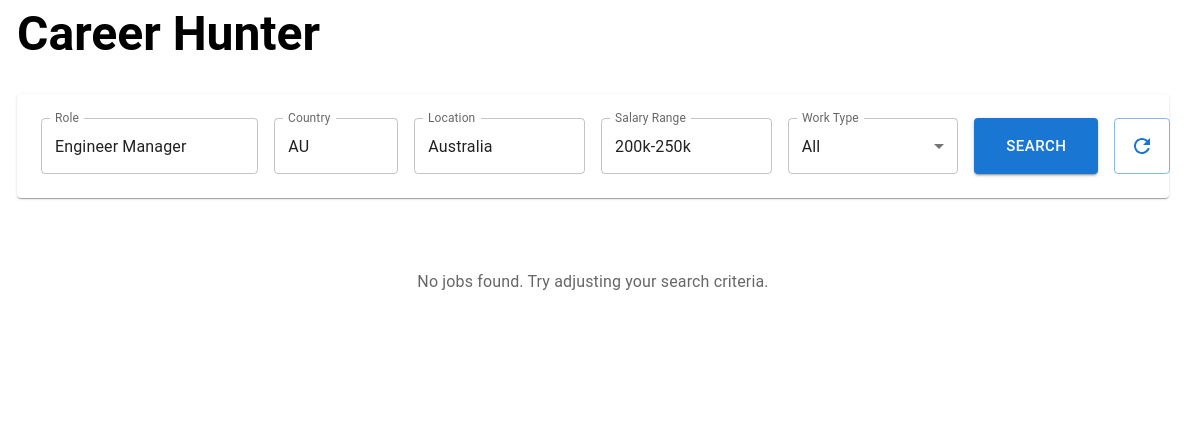
App › displays jobs after successful search
Click the button "Search": click(1036, 146) [974,118,1098,174]
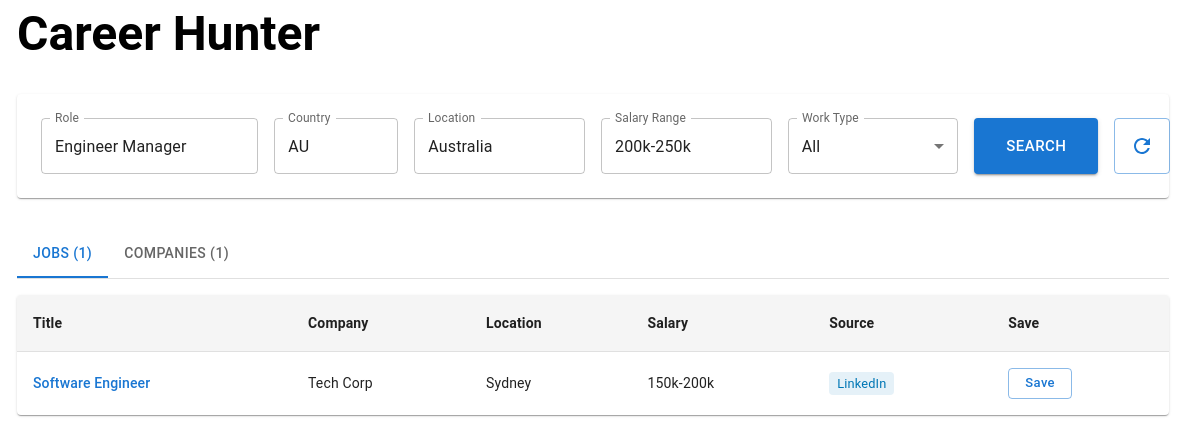
Expected: the link "Software Engineer" is shown, [33,375,150,391]
Expected: the text "Tech Corp" is shown, [308,375,373,391]
Expected: the text "Sydney" is shown, [470,352,632,415]
